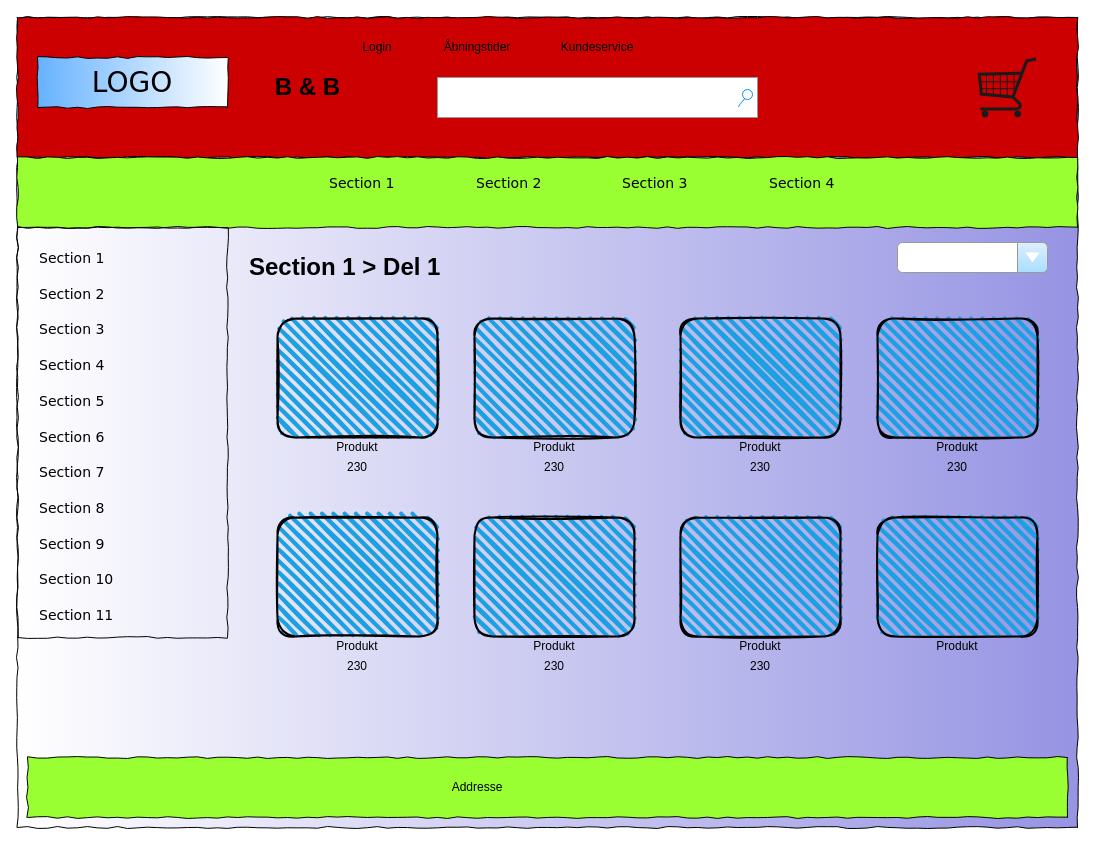
This 1095x845 diagram has some shape labels left out. The centre of each missing label's shape, as x and y in pixels:
Search: (597,97)
Sorter efter: (972,257)
